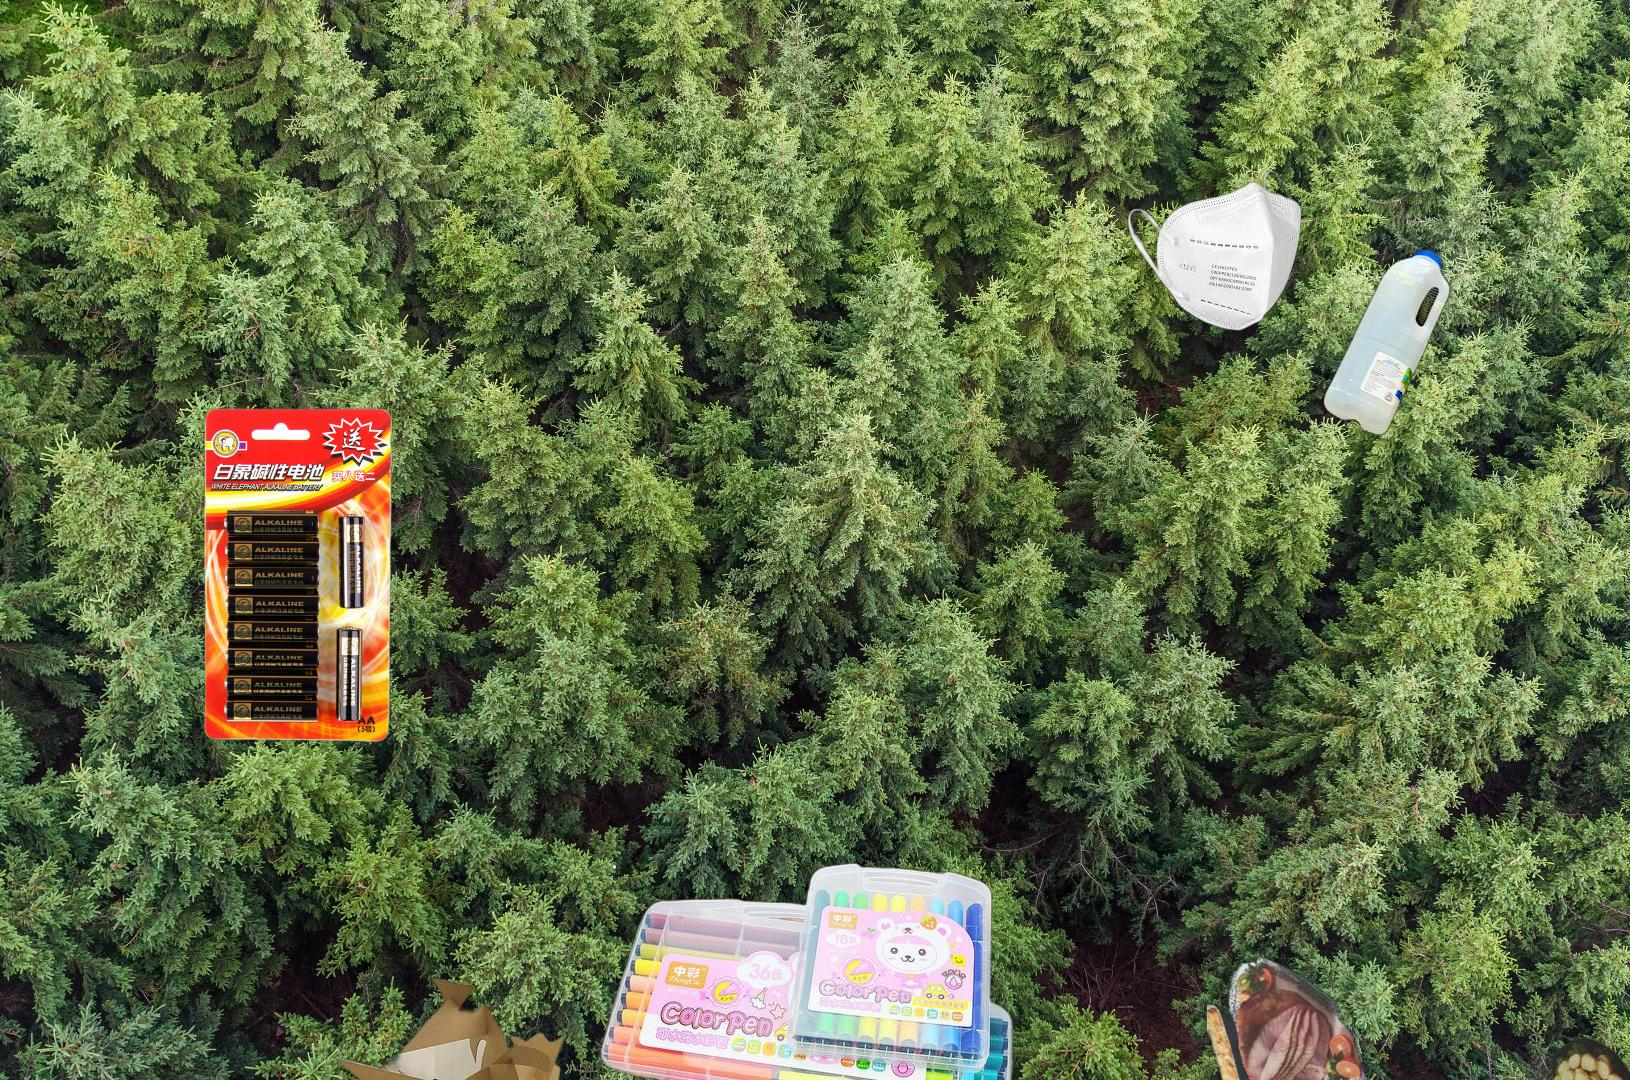battery: (200, 406, 396, 745)
paper: (1207, 957, 1630, 1080)
penholder: (596, 859, 1017, 1080)
plastic-bottles: (1130, 74, 1455, 442)
trash: (1125, 168, 1304, 333)
trashbox-cardboard: (336, 946, 572, 1080)
